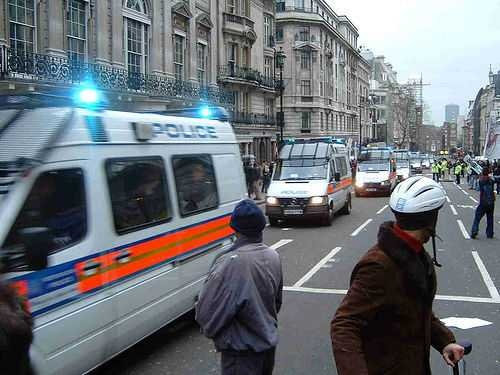Police Van: (3, 77, 247, 375), (260, 131, 360, 223), (348, 140, 396, 197)
